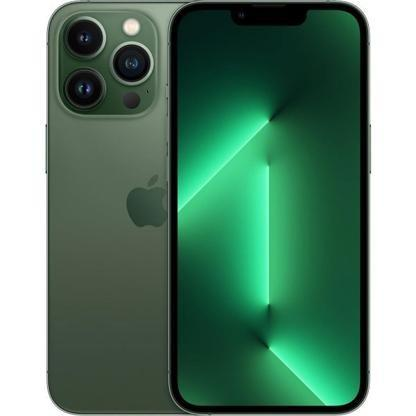not trash: (47, 3, 377, 416), (168, 0, 372, 416)
